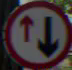Two way: (9, 4, 61, 60)
